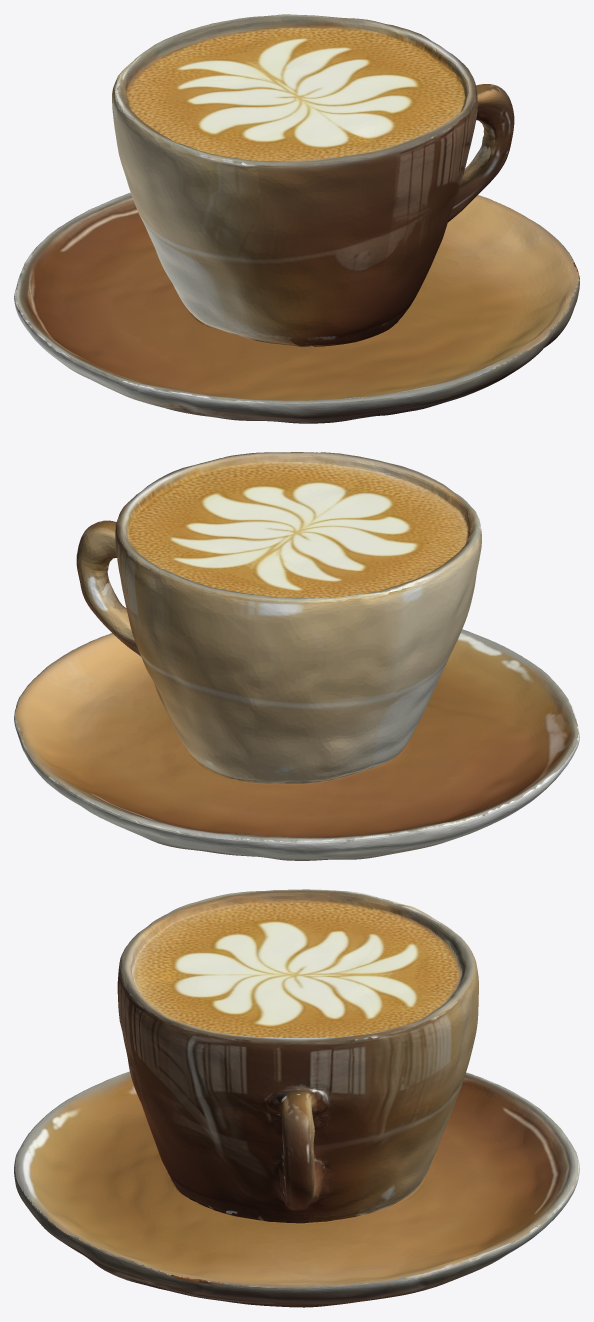
3 views of the same model, one above another, from view 1: azimuth 30°, elevation 25°; view 2: azimuth 150°, elevation 25°; view 3: azimuth 270°, elevation 25° (orthographic).
Parts seen in each view (by area): view 1: tmpimqxgydl.ply; view 2: tmpimqxgydl.ply; view 3: tmpimqxgydl.ply.
Boxes of the visible parts, <box> form: tmpimqxgydl.ply: <box>14,14,579,423</box>; tmpimqxgydl.ply: <box>14,452,579,860</box>; tmpimqxgydl.ply: <box>14,889,579,1307</box>.
Size of the model in its own units: 0.9986 by 0.5081 by 0.9869.
1 material, 1 textured.
